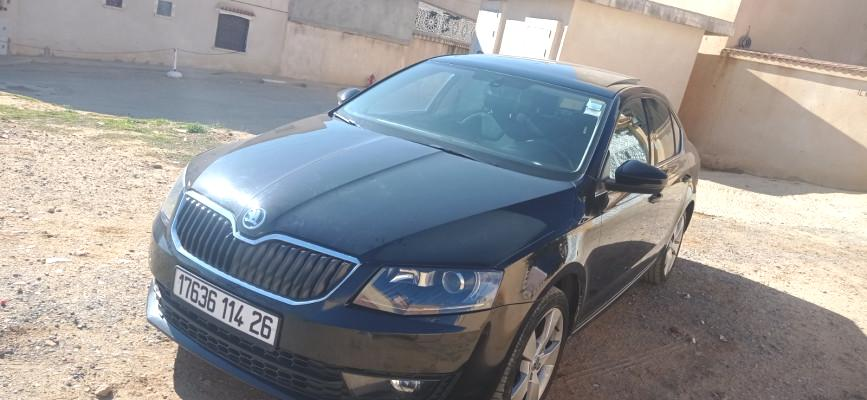skoda: (237, 200, 270, 234)
